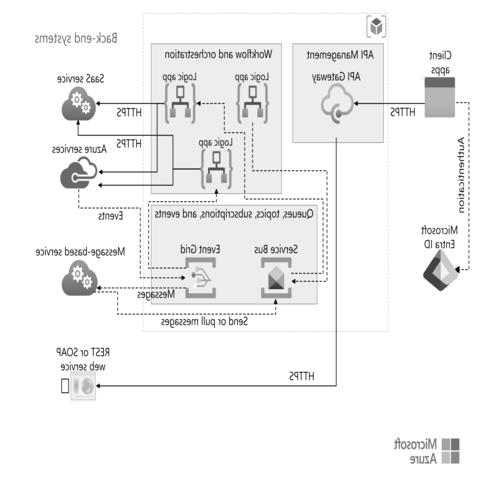actor: (424, 76, 456, 118)
api_gateway: (293, 43, 384, 142)
compute: (164, 76, 198, 120), (238, 76, 271, 120), (201, 144, 234, 188), (62, 88, 98, 121), (62, 262, 98, 295), (62, 158, 98, 190), (62, 370, 98, 402)
data_flow: (335, 103, 338, 418), (102, 384, 334, 388), (468, 102, 471, 268), (139, 208, 142, 328), (99, 286, 183, 290), (116, 312, 277, 314), (98, 170, 175, 174), (156, 74, 160, 148), (172, 104, 175, 188), (200, 136, 202, 258), (79, 206, 140, 210), (98, 134, 175, 137), (98, 184, 175, 187), (244, 120, 247, 194), (356, 102, 425, 105), (104, 102, 164, 105), (251, 224, 340, 226), (251, 120, 254, 166), (197, 109, 226, 112), (275, 243, 278, 258), (216, 188, 219, 200), (275, 300, 278, 312)
database_storage: (260, 256, 293, 296), (185, 256, 218, 296)
network_security: (424, 250, 456, 291)
trust_boundary: (143, 12, 389, 332), (151, 44, 282, 192), (148, 198, 318, 306)
